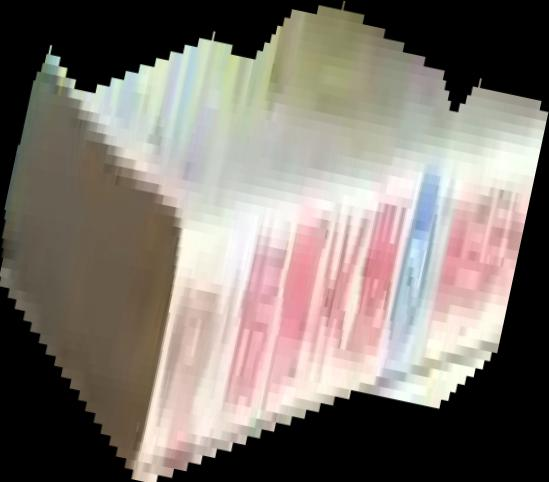flat: (1, 1, 549, 482)
